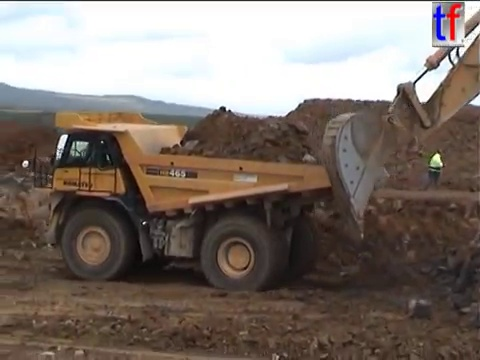excavator: (318, 6, 480, 244)
truck: (19, 108, 392, 294)
worker: (420, 145, 449, 194)
